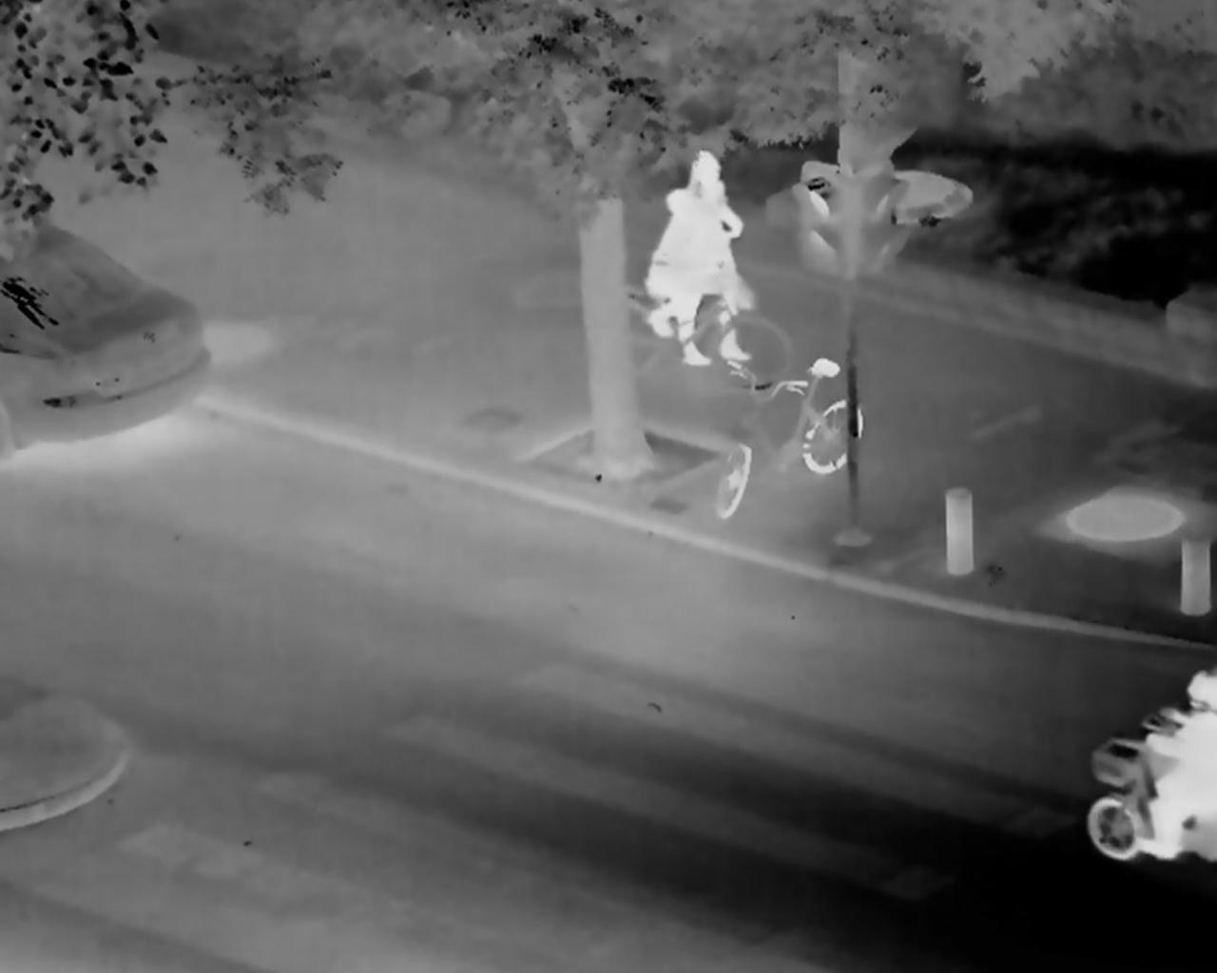person: (684, 150, 748, 369), (1151, 668, 1217, 862), (650, 186, 714, 347)
